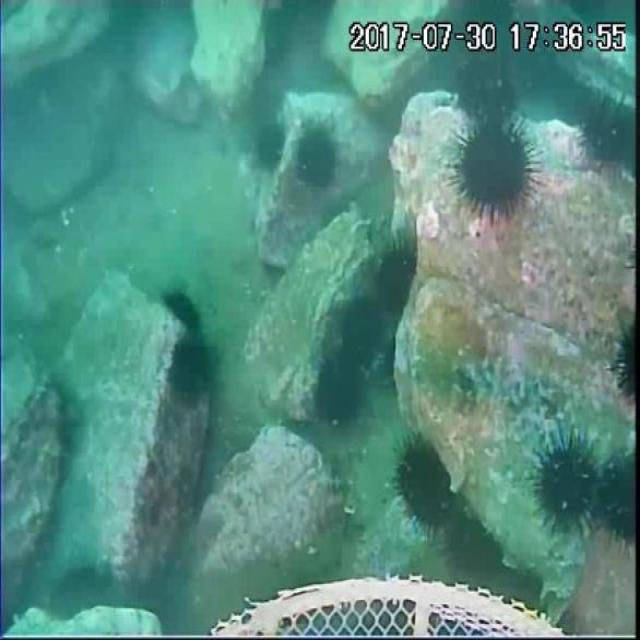echinus: (452, 112, 535, 217), (531, 432, 606, 541), (393, 433, 459, 535), (577, 90, 639, 174), (453, 56, 521, 127), (448, 514, 507, 582), (316, 351, 364, 429), (372, 240, 420, 317), (602, 452, 640, 549), (166, 339, 216, 408), (341, 295, 383, 368), (290, 128, 340, 189), (607, 314, 640, 406), (163, 287, 203, 336), (252, 120, 286, 173), (486, 459, 488, 460)
